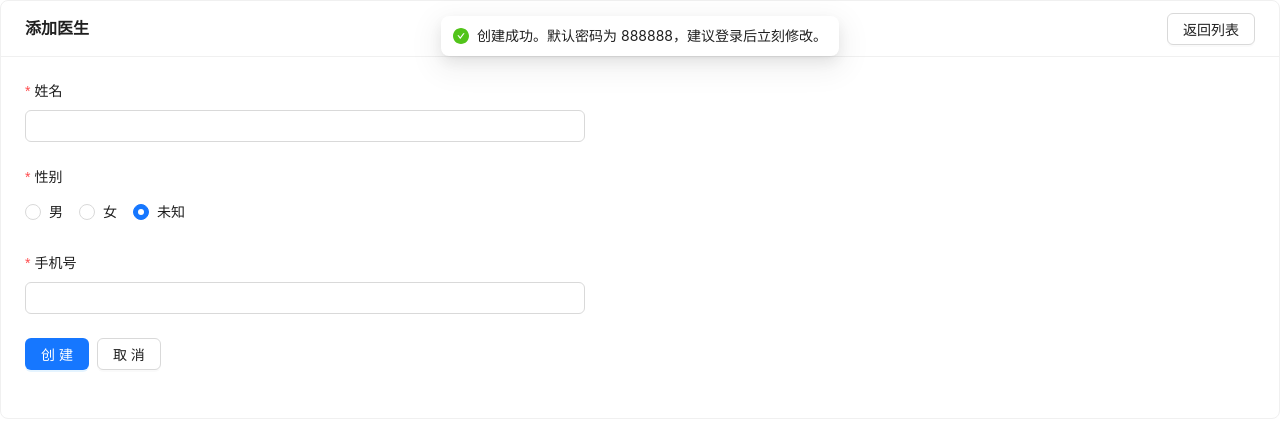
DoctorCreatePage › shows backend phone errors on the phone field
In the field labelled "姓名": (305, 126) [25,110,585,142], type "新医生"
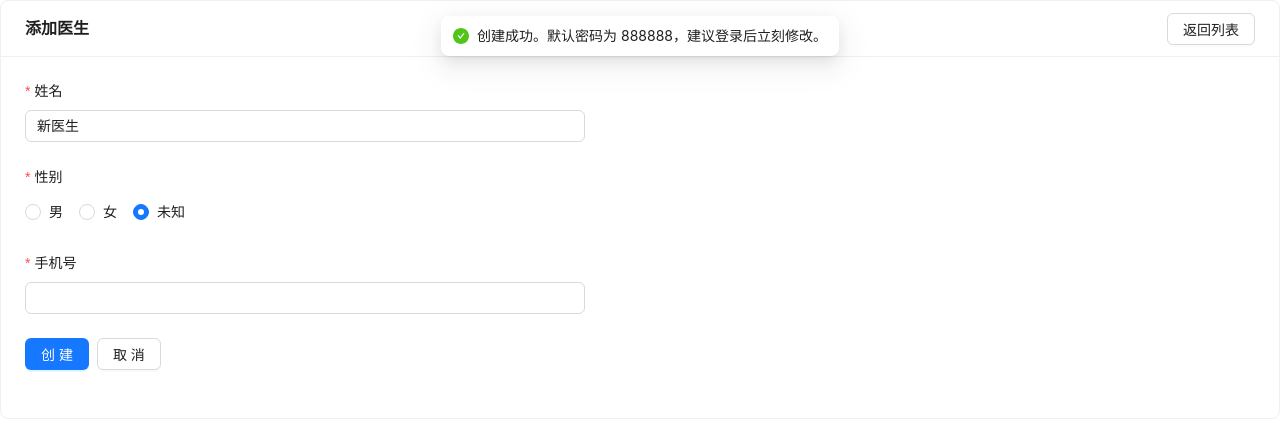
In the field labelled "手机号": (305, 298) [25,282,585,314], type "13812345678"
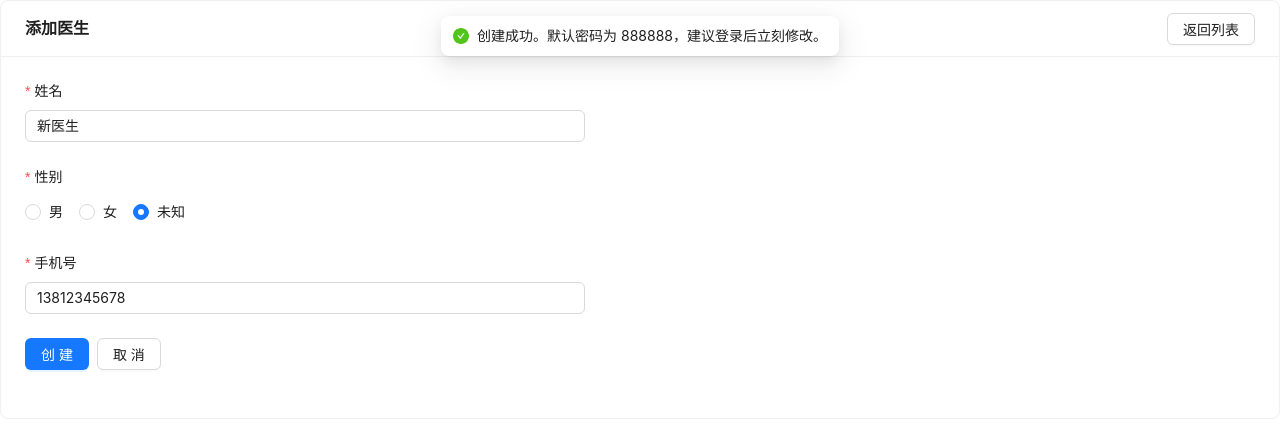
Click the button "创 建": click(57, 354) [25,338,89,370]
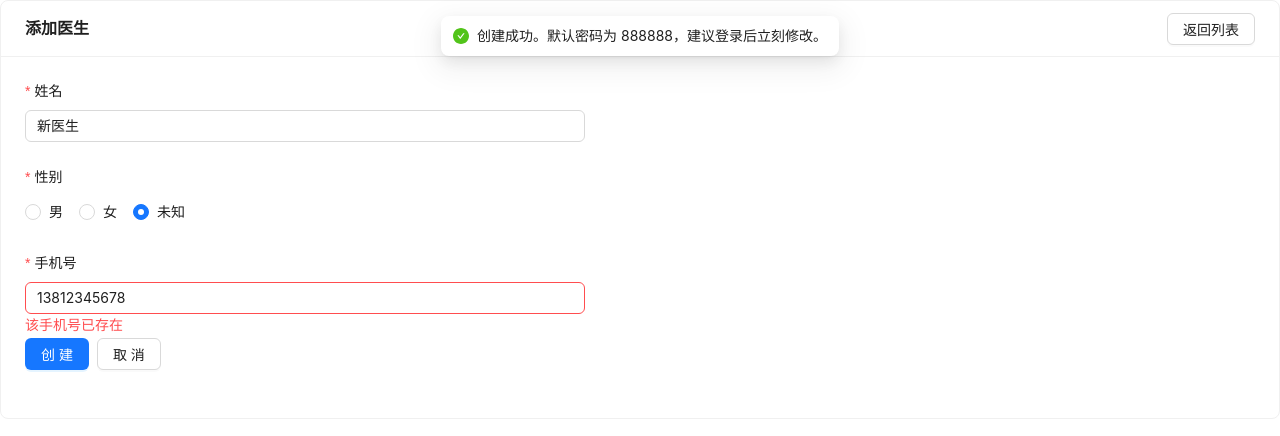
Check: the text "该手机号已存在" is shown, box [25,316,123,333]
